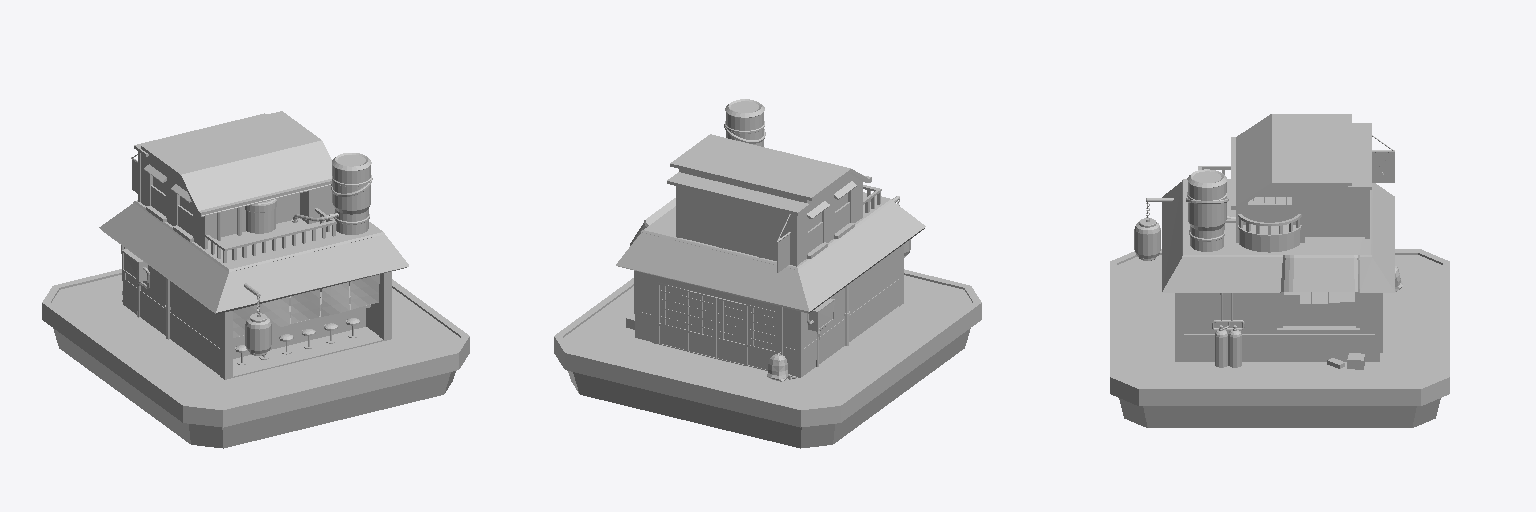
File: RestauranteCompleto.obj
The picture shows the model from 3 angles: view 1: azimuth 30°, elevation 25°; view 2: azimuth 150°, elevation 25°; view 3: azimuth 270°, elevation 25°; orthographic projection.
Parts seen in each view (by area): view 1: restauranteOBJ:Ground_lowFBXASC046000, restauranteOBJ:Buliding_Top_lowFBXASC046000, restauranteOBJ:Building_Bottom_Roof_lowFBXASC046000, restauranteOBJ:Building_Bottom_lowFBXASC046000, restauranteOBJ:Flags_lowFBXASC046000, restauranteOBJ:Water_Tower_lowFBXASC046000, restauranteOBJ:Carpet_lowFBXASC046001, restauranteOBJ:Table_lowFBXASC046000, restauranteOBJ:Railing_lowFBXASC046000, restauranteOBJ:Windows_Upper_lowFBXASC046000, restauranteOBJ:Lantern_lowFBXASC046000, restauranteOBJ:AC_Unit_lowFBXASC046000 (+1 smaller); view 2: restauranteOBJ:Ground_lowFBXASC046000, restauranteOBJ:Buliding_Top_lowFBXASC046000, restauranteOBJ:Building_Bottom_Roof_lowFBXASC046000, restauranteOBJ:Building_Bottom_lowFBXASC046000, restauranteOBJ:Sliding_Doors_lowFBXASC046000, restauranteOBJ:Water_Tower_lowFBXASC046000, restauranteOBJ:Windows_Upper_lowFBXASC046000, restauranteOBJ:AC_Unit_lowFBXASC046000; view 3: restauranteOBJ:Ground_lowFBXASC046000, restauranteOBJ:Buliding_Top_lowFBXASC046000, restauranteOBJ:Building_Bottom_Roof_lowFBXASC046000, restauranteOBJ:Building_Bottom_lowFBXASC046000, restauranteOBJ:Water_Tower_lowFBXASC046000, restauranteOBJ:Tanks_lowFBXASC046000, restauranteOBJ:Lantern_lowFBXASC046000, restauranteOBJ:Noodle_Sign_lowFBXASC046000, restauranteOBJ:Shutters_lowFBXASC046000, restauranteOBJ:Railing_lowFBXASC046000.
Part boxes in pixels (x1,y1,x2,y2): restauranteOBJ:Ground_lowFBXASC046000: (42,269,469,448); restauranteOBJ:Buliding_Top_lowFBXASC046000: (134,111,334,249); restauranteOBJ:Building_Bottom_Roof_lowFBXASC046000: (99,200,408,314); restauranteOBJ:Building_Bottom_lowFBXASC046000: (122,247,391,379); restauranteOBJ:Flags_lowFBXASC046000: (233,274,379,337); restauranteOBJ:Water_Tower_lowFBXASC046000: (332,153,371,234); restauranteOBJ:Carpet_lowFBXASC046001: (233,327,383,377); restauranteOBJ:Table_lowFBXASC046000: (233,291,370,358); restauranteOBJ:Railing_lowFBXASC046000: (205,208,336,262); restauranteOBJ:Windows_Upper_lowFBXASC046000: (144,164,193,241); restauranteOBJ:Lantern_lowFBXASC046000: (245,313,271,355); restauranteOBJ:AC_Unit_lowFBXASC046000: (121,245,149,317); restauranteOBJ:Ground_lowFBXASC046000: (554,269,981,448); restauranteOBJ:Buliding_Top_lowFBXASC046000: (667,134,871,266); restauranteOBJ:Building_Bottom_Roof_lowFBXASC046000: (616,192,925,313); restauranteOBJ:Building_Bottom_lowFBXASC046000: (634,244,903,377); restauranteOBJ:Sliding_Doors_lowFBXASC046000: (658,283,775,370); restauranteOBJ:Water_Tower_lowFBXASC046000: (725,99,764,146); restauranteOBJ:Windows_Upper_lowFBXASC046000: (807,181,856,258); restauranteOBJ:AC_Unit_lowFBXASC046000: (807,298,834,366); restauranteOBJ:Ground_lowFBXASC046000: (1110,249,1449,427); restauranteOBJ:Buliding_Top_lowFBXASC046000: (1231,114,1371,252); restauranteOBJ:Building_Bottom_Roof_lowFBXASC046000: (1146,179,1394,292); restauranteOBJ:Building_Bottom_lowFBXASC046000: (1175,292,1382,361); restauranteOBJ:Water_Tower_lowFBXASC046000: (1187,169,1226,251); restauranteOBJ:Tanks_lowFBXASC046000: (1215,325,1241,367); restauranteOBJ:Lantern_lowFBXASC046000: (1134,218,1160,260); restauranteOBJ:Noodle_Sign_lowFBXASC046000: (1372,135,1394,182); restauranteOBJ:Shutters_lowFBXASC046000: (1284,292,1354,304); restauranteOBJ:Railing_lowFBXASC046000: (1198,166,1301,234).
Size of the model in its own units: 7.3 by 5.28 by 7.51.